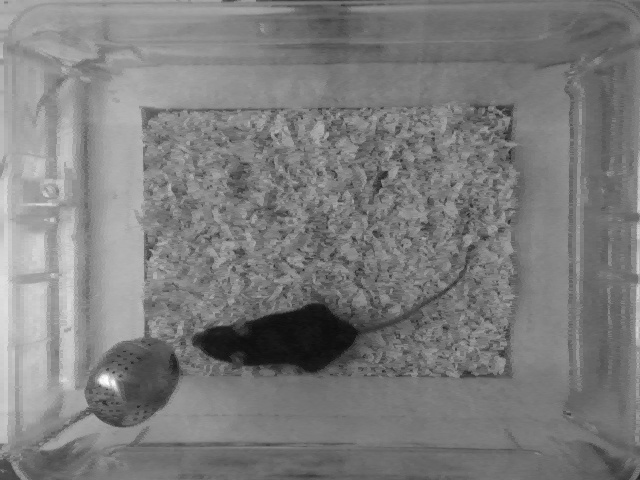mice: (191, 252, 473, 374)
